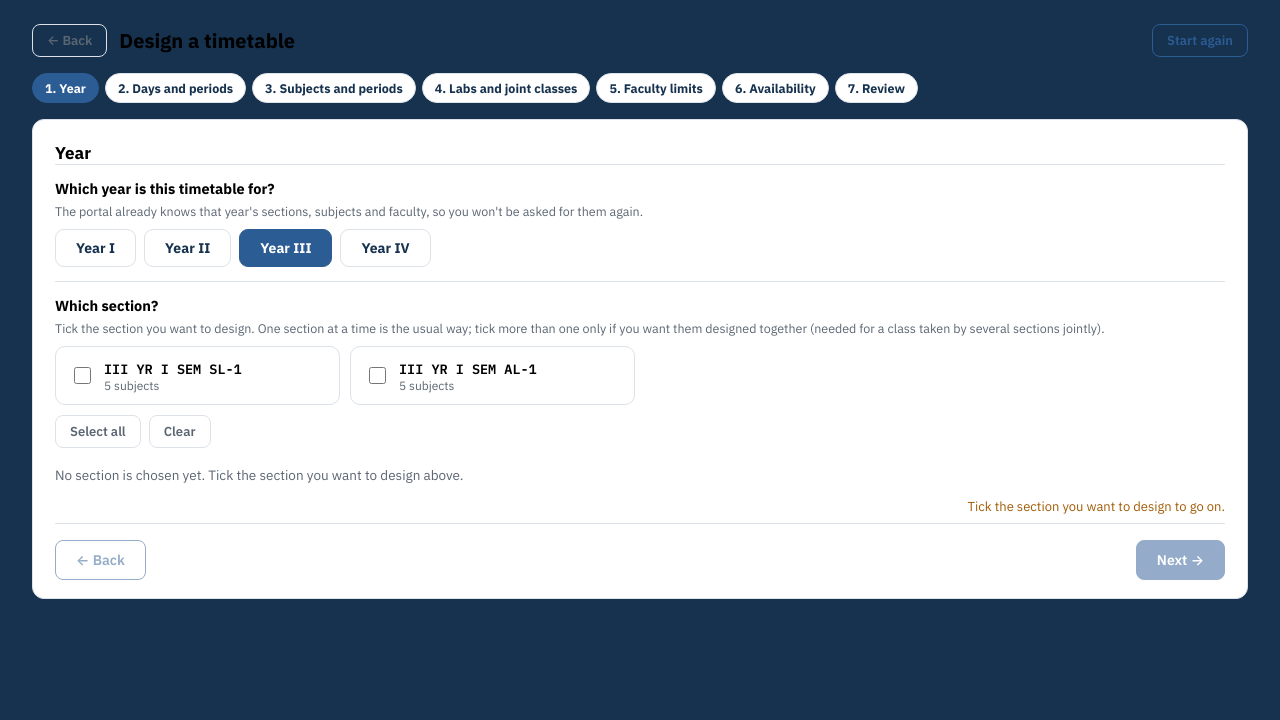
Test: every tab can be opened directly, and a problem points to the tab that fixes it
Expected: the text "Which section?" is shown, [55, 296, 158, 315]
Click the checkbox labelled "III YR I SEM SL-1 5 subjects" at (82, 376), box [74, 367, 91, 384]
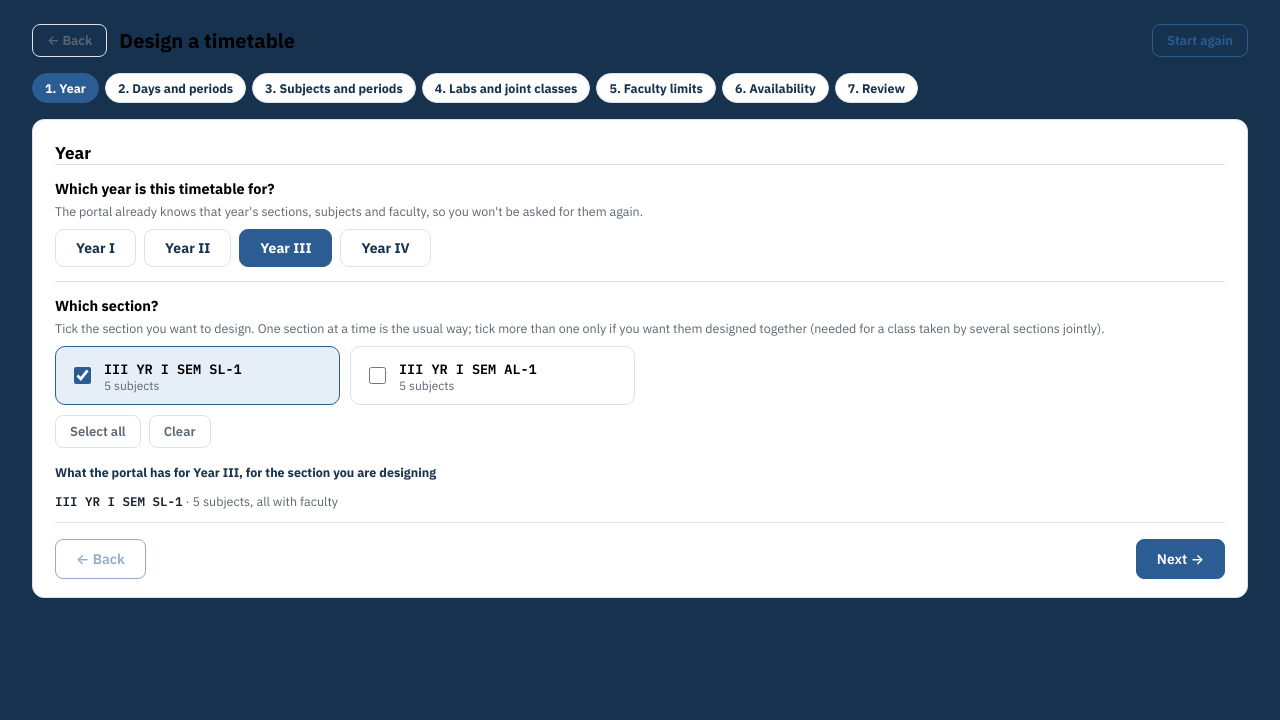
Result: the text "What the portal has for Year III" is shown at [55, 464, 436, 480]
Click the button "7. Review" at (876, 88), box [835, 73, 918, 103]
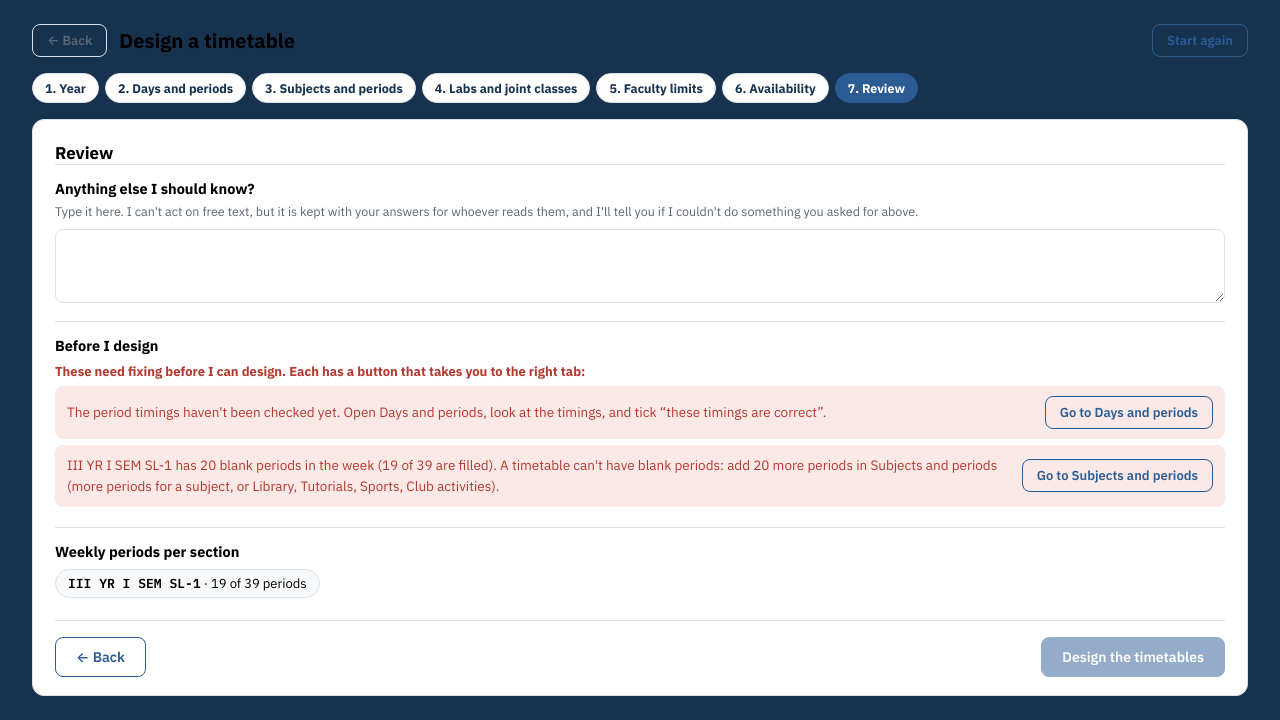
Result: the text "Before I design" is shown at [55, 336, 158, 355]
Result: the text "haven't been checked yet" is shown at [67, 403, 826, 421]
Click the button "Go to Days and periods" at (1129, 412), box [1045, 396, 1213, 429]
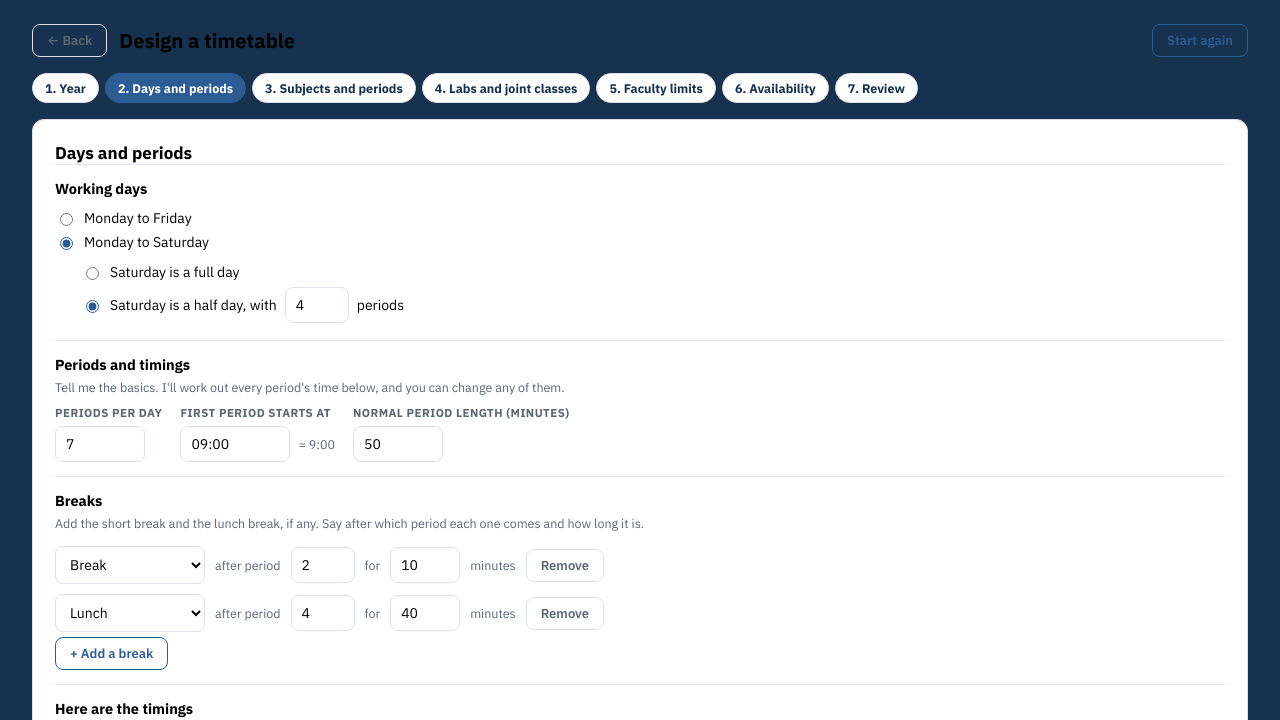
Result: the text "Here are the timings" is shown at [55, 699, 193, 718]
